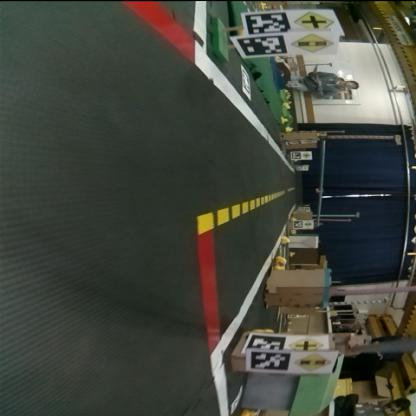Duckie: (275, 256, 287, 264), (283, 236, 291, 244), (281, 116, 289, 122)
Intersection sign: (294, 10, 338, 31), (290, 337, 324, 351), (306, 152, 311, 158)
QR code: (236, 37, 288, 57), (244, 13, 292, 33), (250, 352, 292, 372), (247, 334, 282, 350), (294, 152, 301, 160)
Signal sign: (297, 33, 334, 54), (297, 352, 330, 372), (306, 221, 314, 227)
